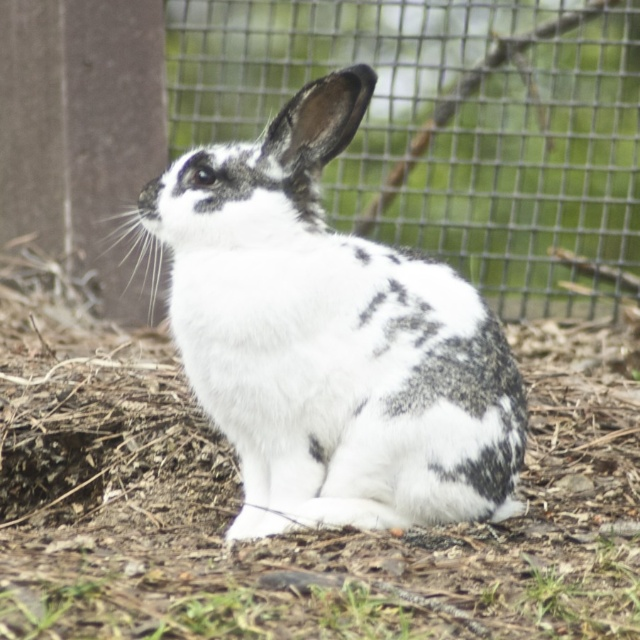Rabbit: (97, 59, 527, 545)
